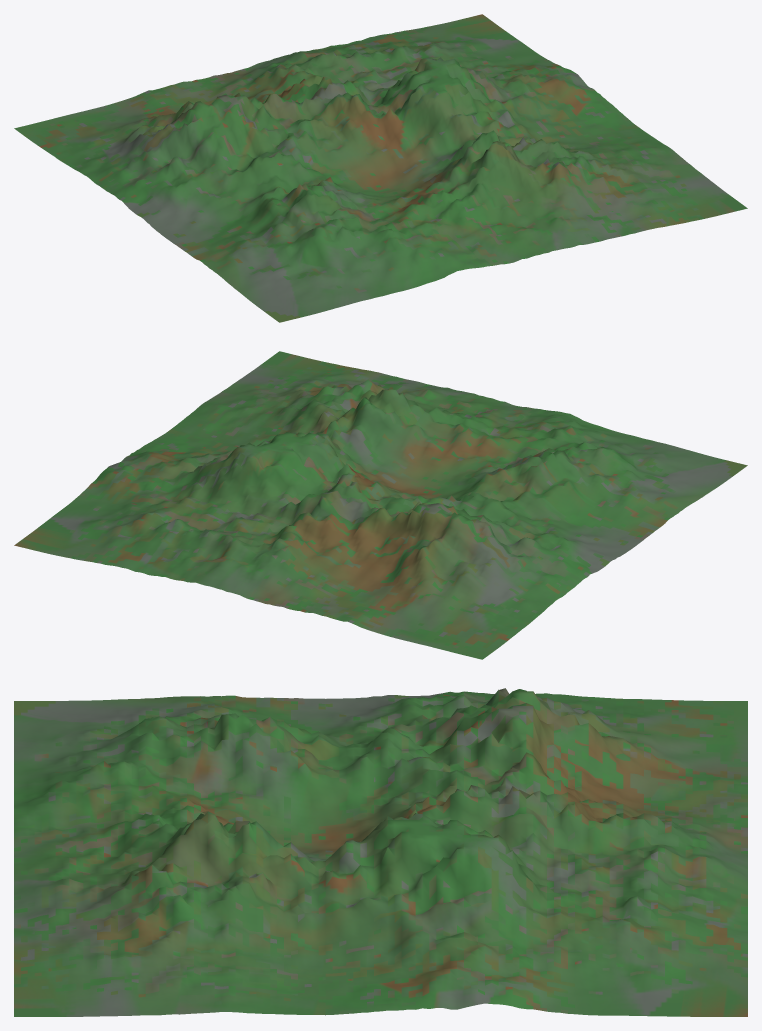
File: hills.glb
3 views of the same model, one above another, from view 1: azimuth 30°, elevation 25°; view 2: azimuth 150°, elevation 25°; view 3: azimuth 270°, elevation 25° (orthographic). The views are drawn at different scales.
Visible parts, largest first — view 1: Landscape.A1_collider; view 2: Landscape.A1_collider; view 3: Landscape.A1_collider.
Boxes of the visible parts, x1,y1,x2,y2 form: Landscape.A1_collider: [14, 14, 747, 322]; Landscape.A1_collider: [14, 351, 747, 659]; Landscape.A1_collider: [14, 688, 747, 1016].
Size of the model in its own units: 89.13 by 10.51 by 87.48.
Materials: 1 (1 with a texture image).
